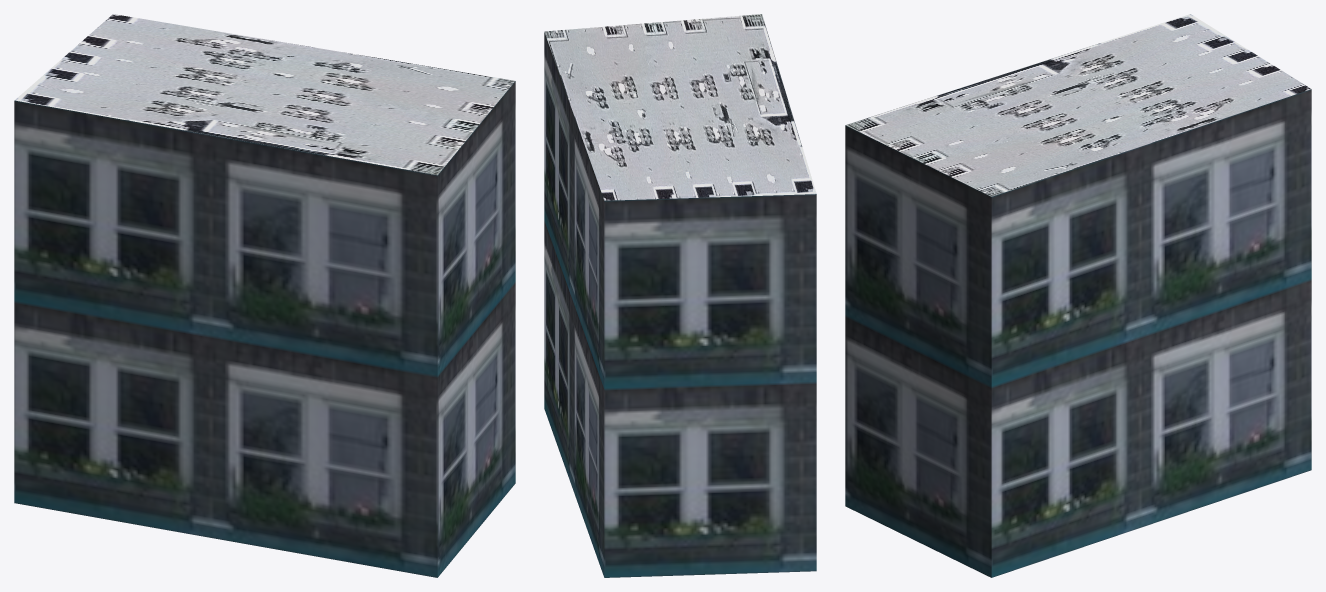
Rendered from ResTex__534.fbx.
The picture shows the model from 3 angles, left to right: view 1: azimuth 30°, elevation 25°; view 2: azimuth 150°, elevation 25°; view 3: azimuth 270°, elevation 25°; orthographic projection. The views are drawn at different scales.
Visible parts, largest first — view 1: CityEngineMaterial_11_m, CityEngineMaterial_8_m; view 2: CityEngineMaterial_11_m, CityEngineMaterial_8_m; view 3: CityEngineMaterial_11_m, CityEngineMaterial_8_m.
Part boxes in pixels (x1=…): CityEngineMaterial_11_m: x1=14, y1=81, x2=515, y2=577; CityEngineMaterial_8_m: x1=14, y1=14, x2=514, y2=175; CityEngineMaterial_11_m: x1=544, y1=32, x2=816, y2=577; CityEngineMaterial_8_m: x1=544, y1=14, x2=816, y2=200; CityEngineMaterial_11_m: x1=845, y1=89, x2=1311, y2=577; CityEngineMaterial_8_m: x1=845, y1=14, x2=1311, y2=196.
Size of the model in its own units: 6.17 by 6 by 6.66.
2 materials, 2 textured.
